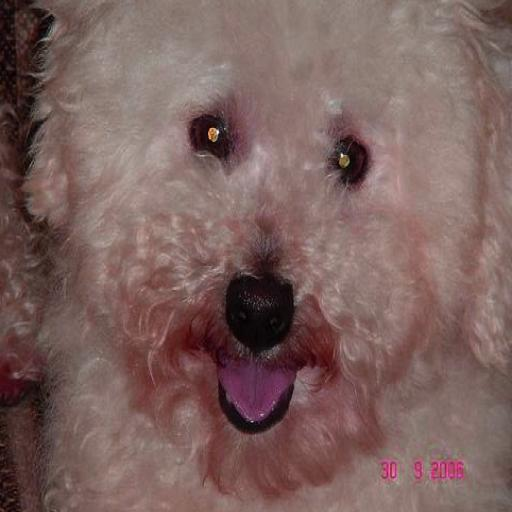dog_face: (42, 0, 486, 457)
